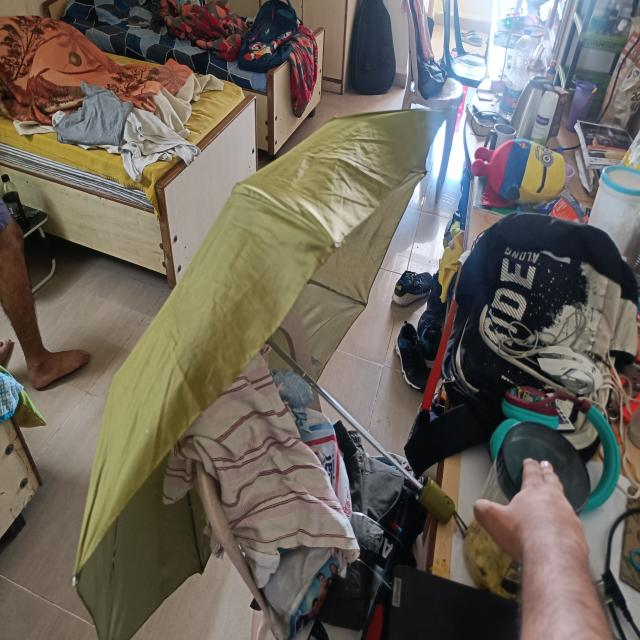minion: (473, 140, 565, 206)
umbrella: (71, 112, 460, 640)
